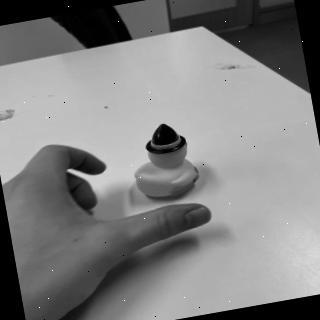duck_specialty: (126, 118, 206, 205)
